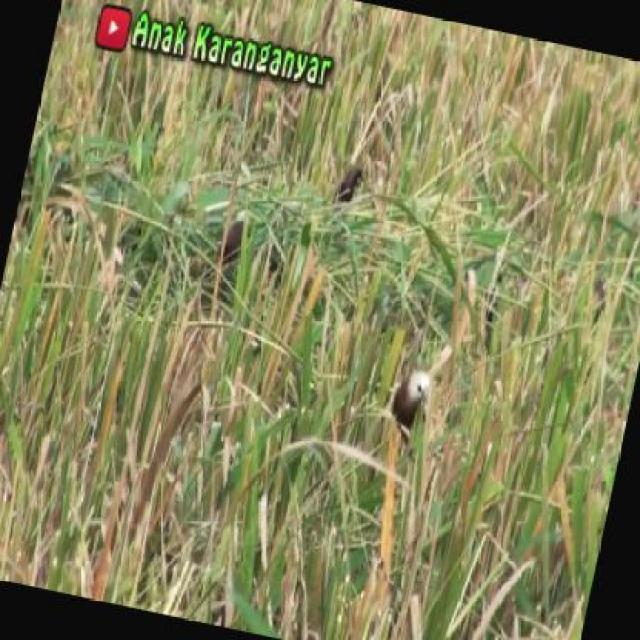Bird: (387, 364, 428, 440), (218, 204, 251, 268), (334, 162, 365, 205)
